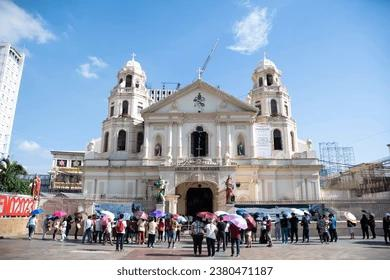quiapo_church_quiapo_manila: (78, 45, 320, 236)
